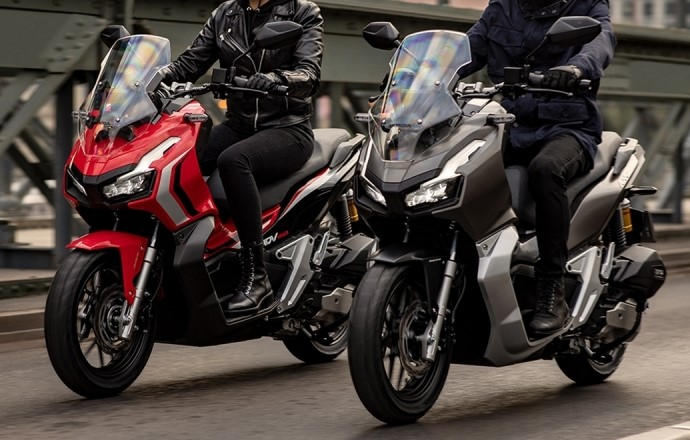motorcycle: (346, 19, 675, 431), (38, 32, 371, 407)
